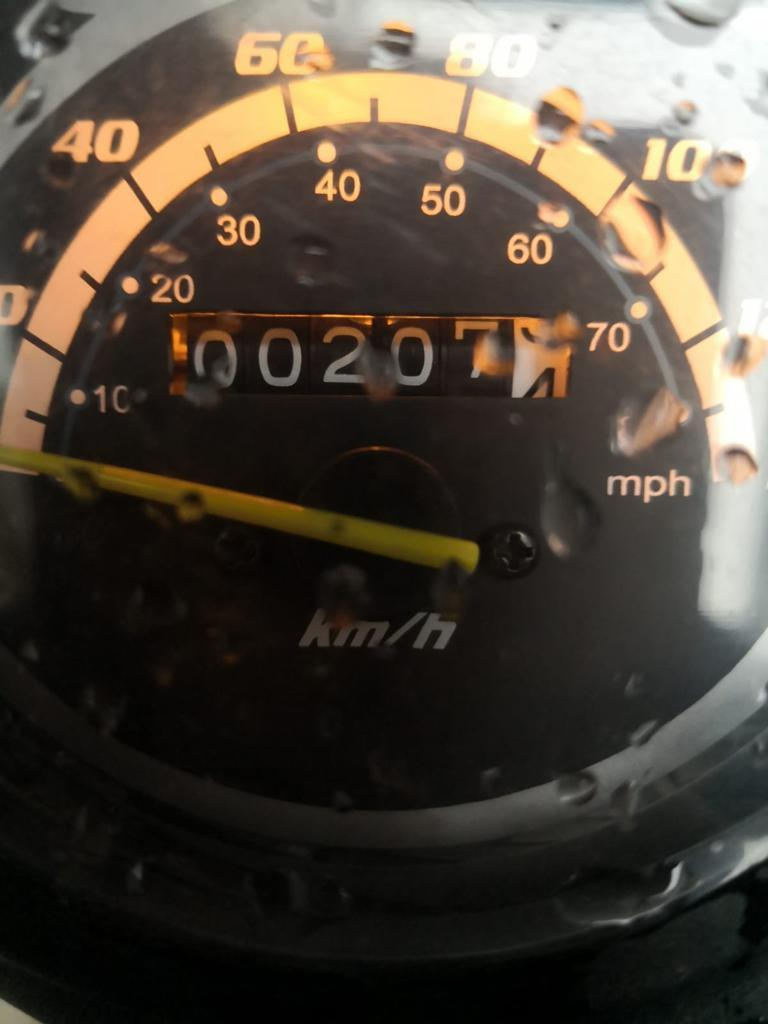0: (193, 322, 242, 397), (387, 322, 435, 394), (256, 322, 306, 391)
2: (319, 317, 373, 392)
4: (512, 356, 563, 404)
7: (454, 315, 505, 391)
odometer: (158, 300, 585, 414)
